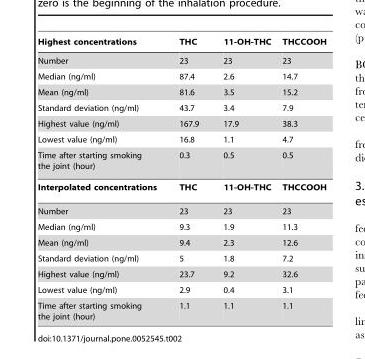table: (36, 37, 325, 320)
table column: (36, 37, 167, 320), (210, 37, 276, 320), (276, 37, 325, 320), (167, 37, 210, 320)
table column header: (36, 37, 325, 51)
table row: (36, 147, 325, 176), (36, 176, 325, 199), (36, 297, 325, 320), (36, 199, 325, 218), (36, 51, 325, 68), (36, 68, 325, 84), (36, 99, 325, 115), (36, 115, 325, 131), (36, 131, 325, 147), (36, 218, 325, 234), (36, 234, 325, 250), (36, 250, 325, 266), (36, 281, 325, 297), (36, 84, 325, 99), (36, 266, 325, 281), (36, 37, 325, 51)
